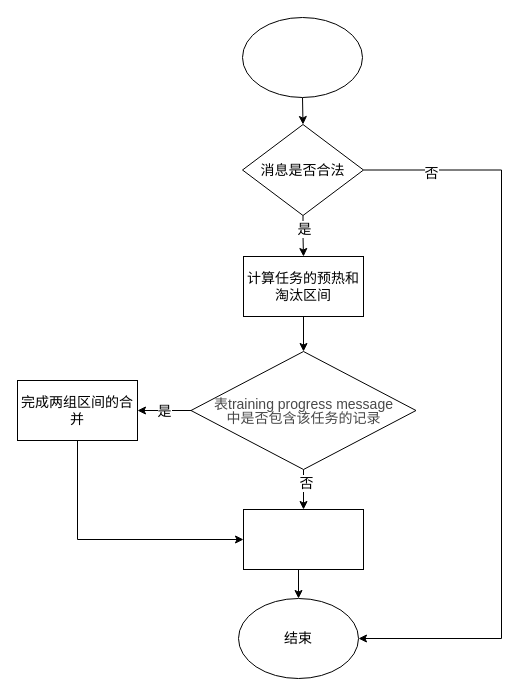
This 527x696 diagram has some shape labels left out. Each missing label, with the centre of its shape:
"入表" goes at point 303,539.
"接收消息" goes at point 302,57.
